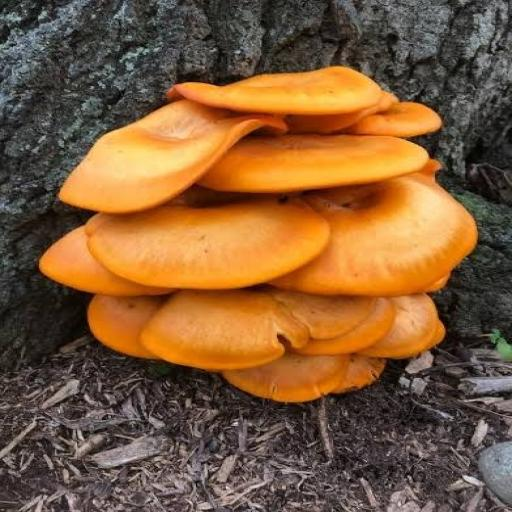Jack O Lantern Mushroom: (50, 92, 294, 218), (272, 157, 481, 302), (120, 278, 409, 370), (72, 198, 327, 293), (204, 119, 434, 199), (205, 337, 390, 418), (162, 65, 382, 127), (68, 275, 218, 364), (25, 212, 173, 294), (329, 292, 458, 357), (336, 93, 458, 142)
